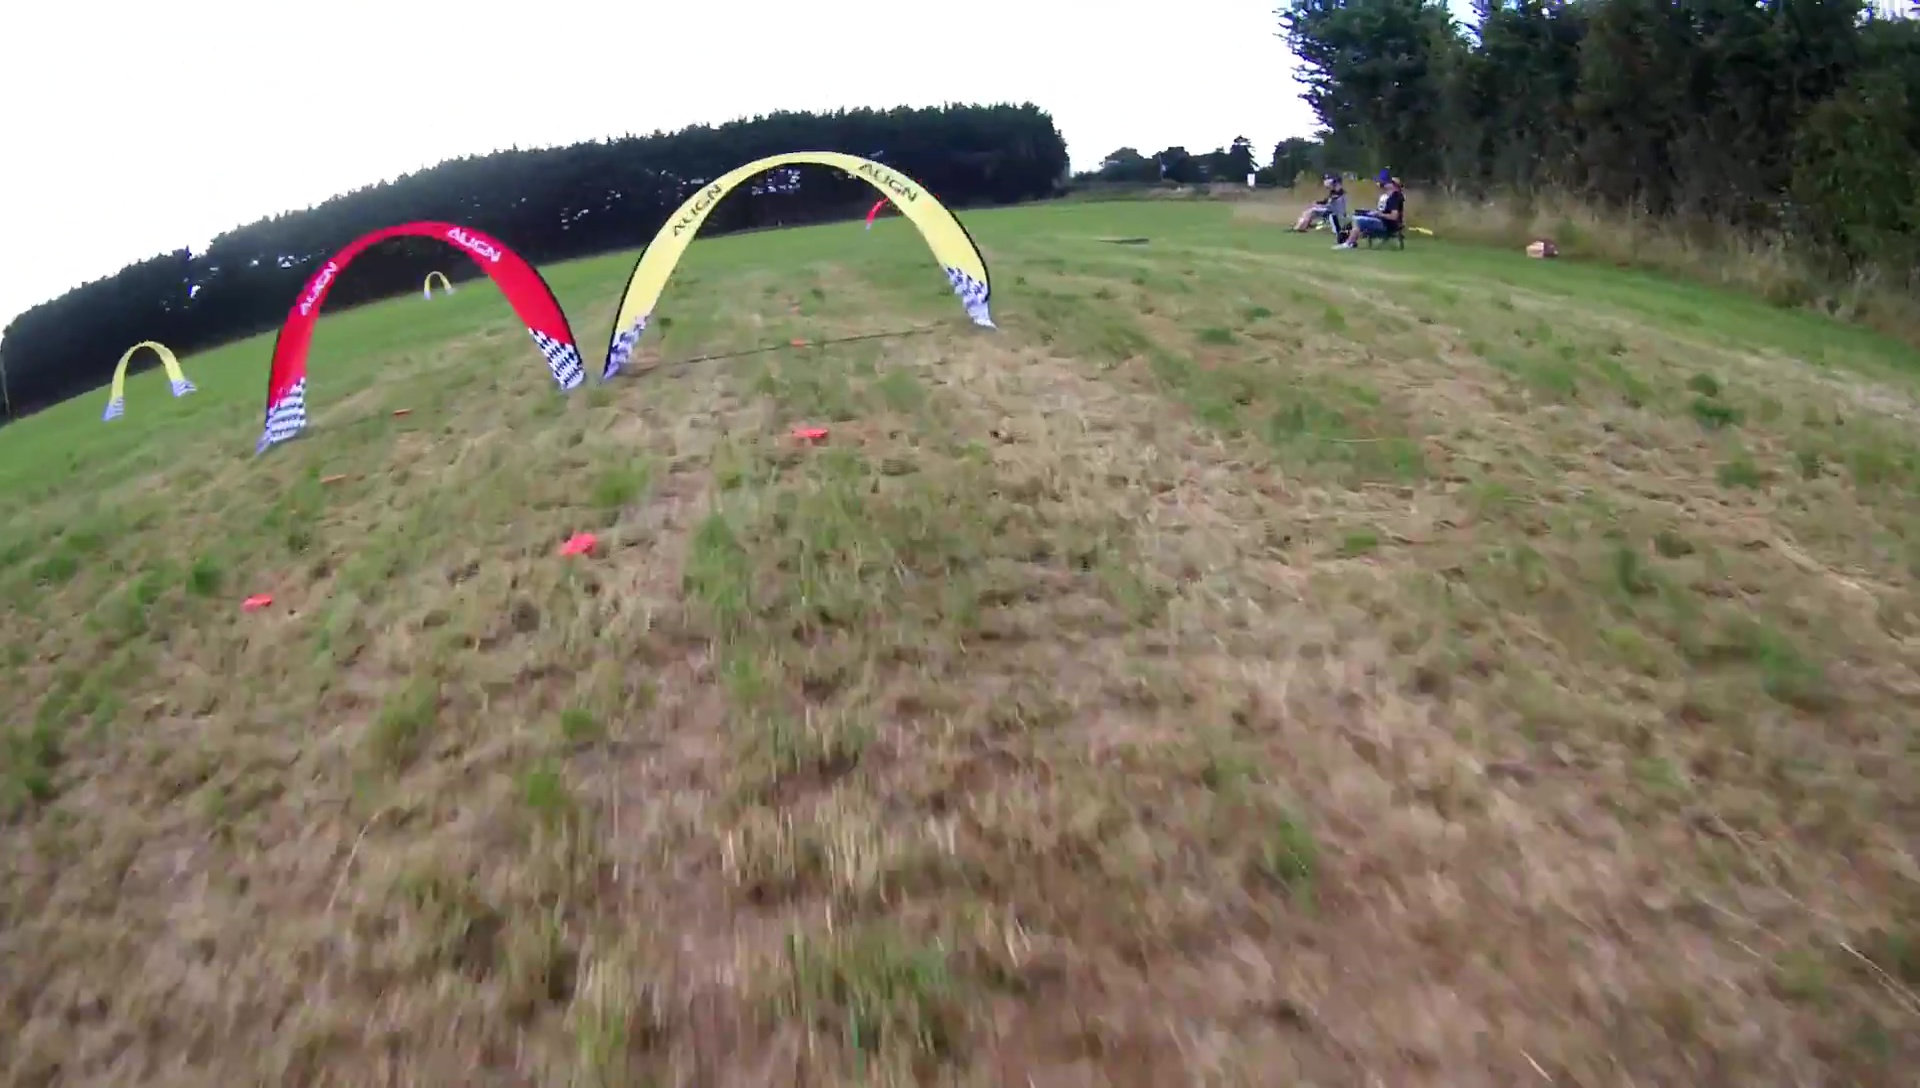gate: (601, 148, 1000, 382), (257, 218, 588, 452), (102, 342, 196, 423), (421, 270, 455, 299)
